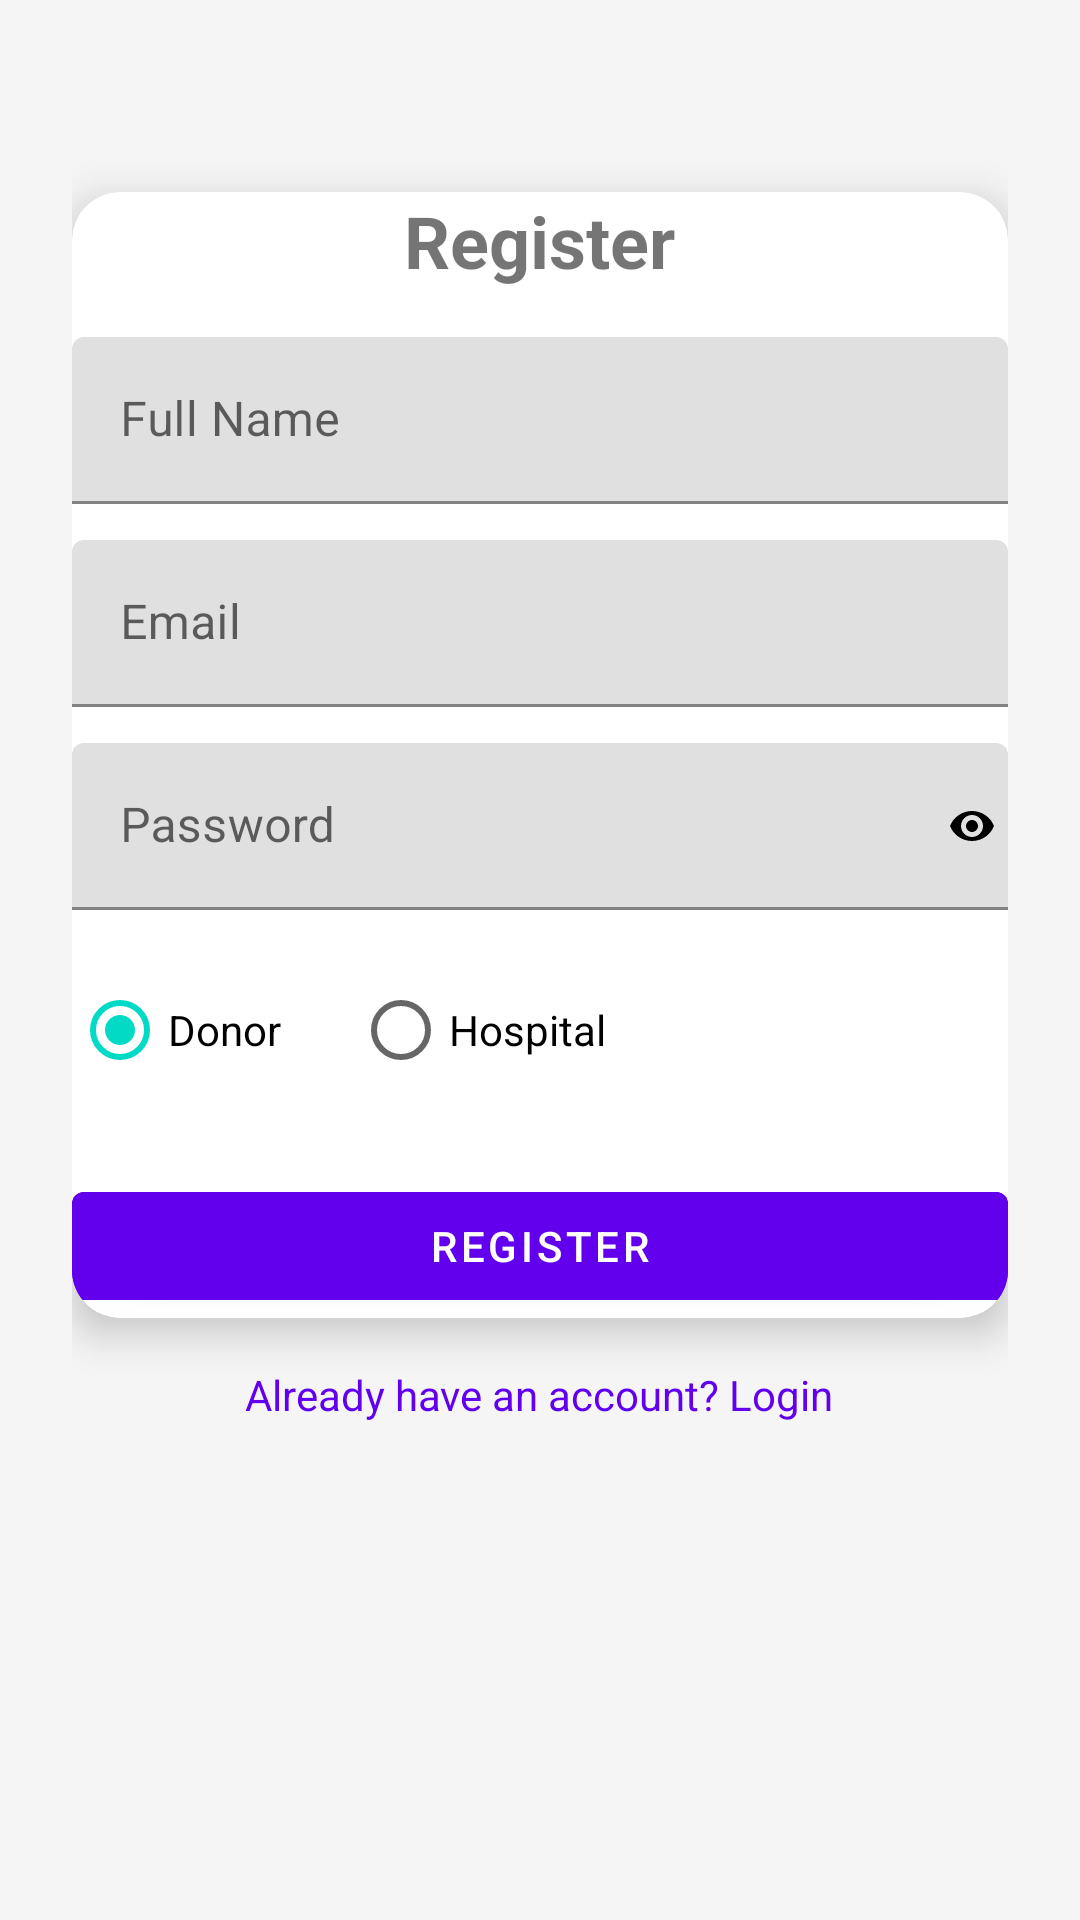

Where icons sit on this 1080w x 1920h app screen, as (x1, y1, x2, y2):
eye: (950, 811, 994, 841)
